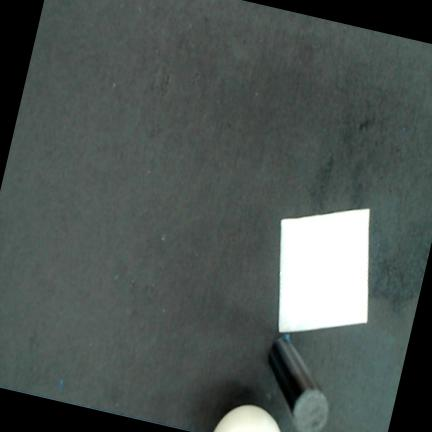Cilindro: (270, 336, 329, 432)
Esfera: (214, 405, 279, 432)
Piramide: (279, 209, 369, 333)
